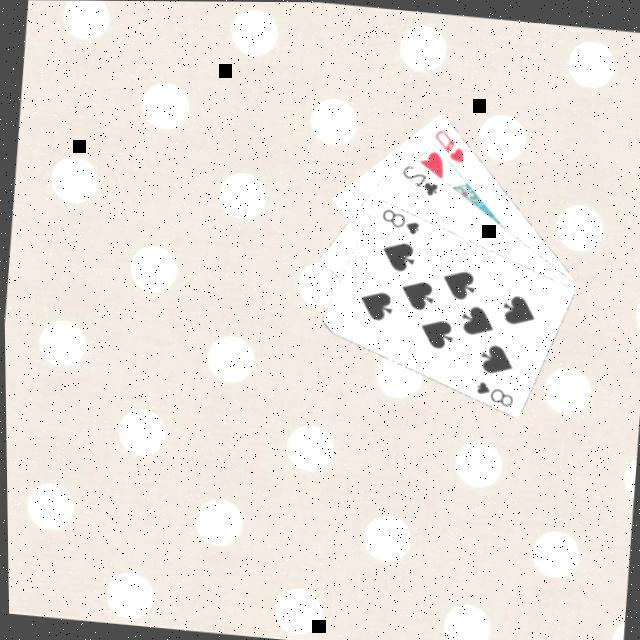2C: (394, 160, 440, 200)
8S: (374, 204, 422, 238), (467, 376, 514, 410)
QH: (426, 124, 467, 165)
